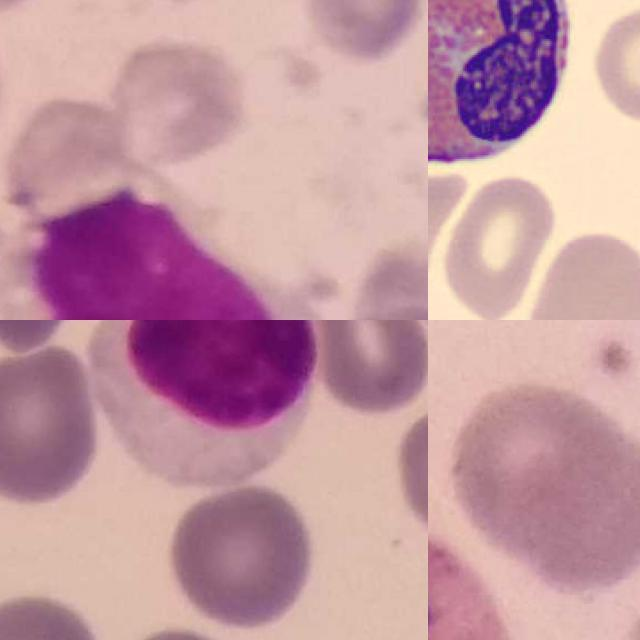Eosinophil: (428, 0, 585, 180)
Lymphocyte: (77, 320, 324, 491)
Monocyte: (22, 180, 330, 320)
RBC: (436, 171, 559, 320), (525, 224, 640, 320), (588, 0, 640, 127)
